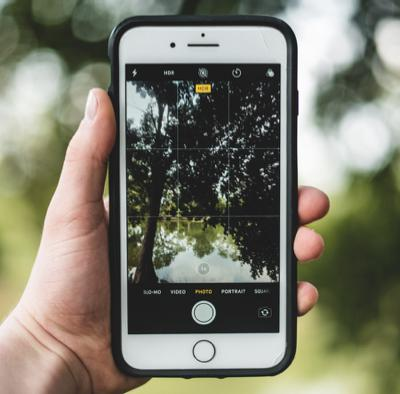cell-phone: (106, 12, 300, 384)
